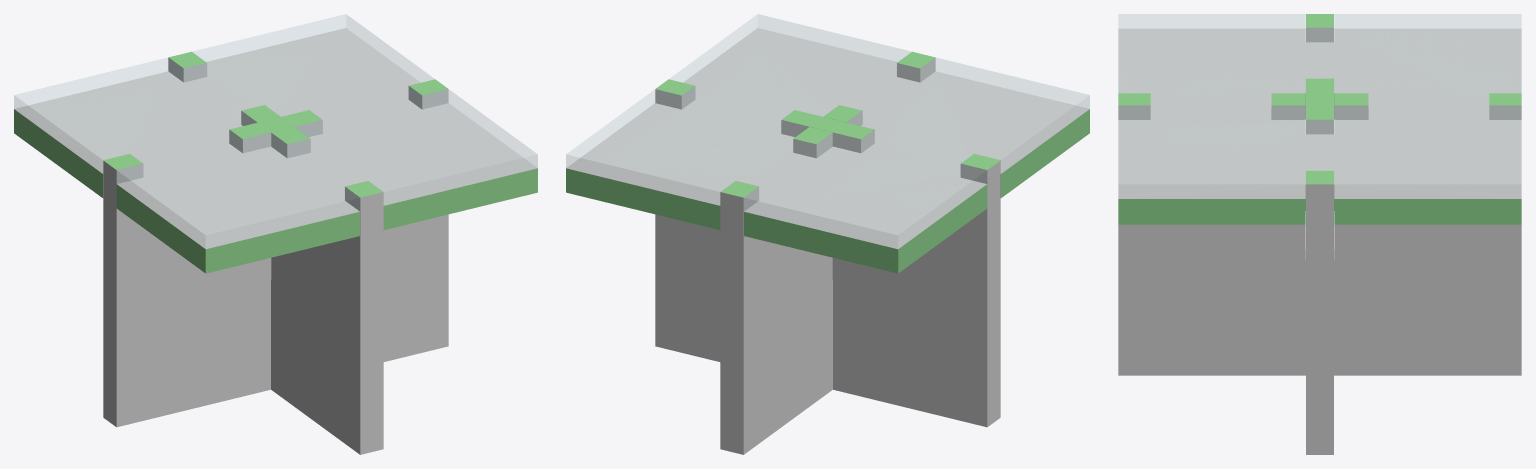
File: marked-stool-5.glb
3 renders of one model, left to right at view 1: azimuth 30°, elevation 25°; view 2: azimuth 150°, elevation 25°; view 3: azimuth 270°, elevation 25°, orthographic. The views are drawn at different scales.
Visible parts, largest first — view 1: 01 凳面｜35 mm｜中央与四边穿榫, 凳面玻璃｜20 mm｜榫头齐平, 03 横向支撑｜35 mm｜下开槽, 02 纵向支撑｜35 mm｜上开槽; view 2: 01 凳面｜35 mm｜中央与四边穿榫, 凳面玻璃｜20 mm｜榫头齐平, 03 横向支撑｜35 mm｜下开槽, 02 纵向支撑｜35 mm｜上开槽; view 3: 01 凳面｜35 mm｜中央与四边穿榫, 凳面玻璃｜20 mm｜榫头齐平, 02 纵向支撑｜35 mm｜上开槽, 03 横向支撑｜35 mm｜下开槽.
Boxes of the visible parts, left/top/right/bottom form: 01 凳面｜35 mm｜中央与四边穿榫: left=14, top=28, right=537, bottom=273; 凳面玻璃｜20 mm｜榫头齐平: left=14, top=14, right=537, bottom=248; 03 横向支撑｜35 mm｜下开槽: left=103, top=79, right=448, bottom=427; 02 纵向支撑｜35 mm｜上开槽: left=168, top=51, right=383, bottom=454; 01 凳面｜35 mm｜中央与四边穿榫: left=566, top=28, right=1089, bottom=273; 凳面玻璃｜20 mm｜榫头齐平: left=566, top=14, right=1089, bottom=248; 03 横向支撑｜35 mm｜下开槽: left=655, top=79, right=1000, bottom=427; 02 纵向支撑｜35 mm｜上开槽: left=720, top=51, right=935, bottom=454; 01 凳面｜35 mm｜中央与四边穿榫: left=1118, top=28, right=1521, bottom=224; 凳面玻璃｜20 mm｜榫头齐平: left=1118, top=14, right=1521, bottom=198; 02 纵向支撑｜35 mm｜上开槽: left=1118, top=93, right=1521, bottom=375; 03 横向支撑｜35 mm｜下开槽: left=1306, top=14, right=1333, bottom=454.
Bounding box in the file's own units: 0.5 × 0.37 × 0.5.
